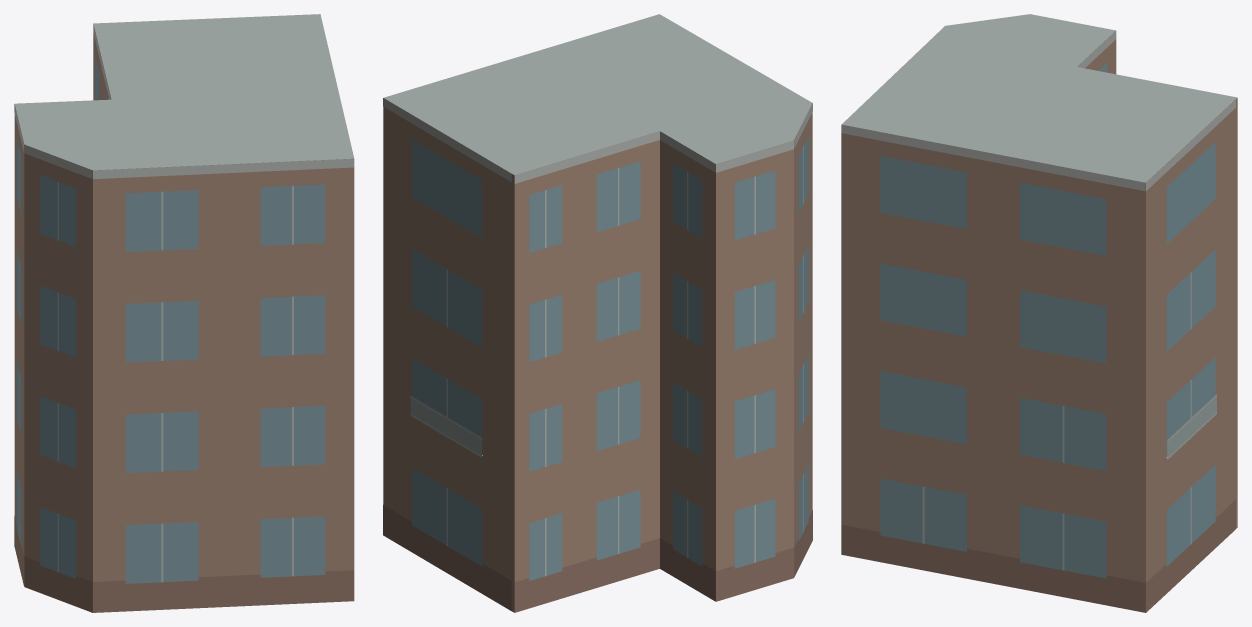
File: survey-upis-33003546.glb
3 renders of one model, left to right at view 1: azimuth 30°, elevation 25°; view 2: azimuth 150°, elevation 25°; view 3: azimuth 270°, elevation 25°, orthographic. The views are drawn at different scales.
Parts seen in each view (by area): view 1: survey-upis-33003546.tmp; view 2: survey-upis-33003546.tmp; view 3: survey-upis-33003546.tmp.
Boxes of the visible parts, x1,y1,x2,y2 form: survey-upis-33003546.tmp: [14, 14, 354, 612]; survey-upis-33003546.tmp: [383, 14, 812, 612]; survey-upis-33003546.tmp: [841, 14, 1237, 612].
Bounding box in the file's own units: 10.28 × 12.2 × 10.19.
